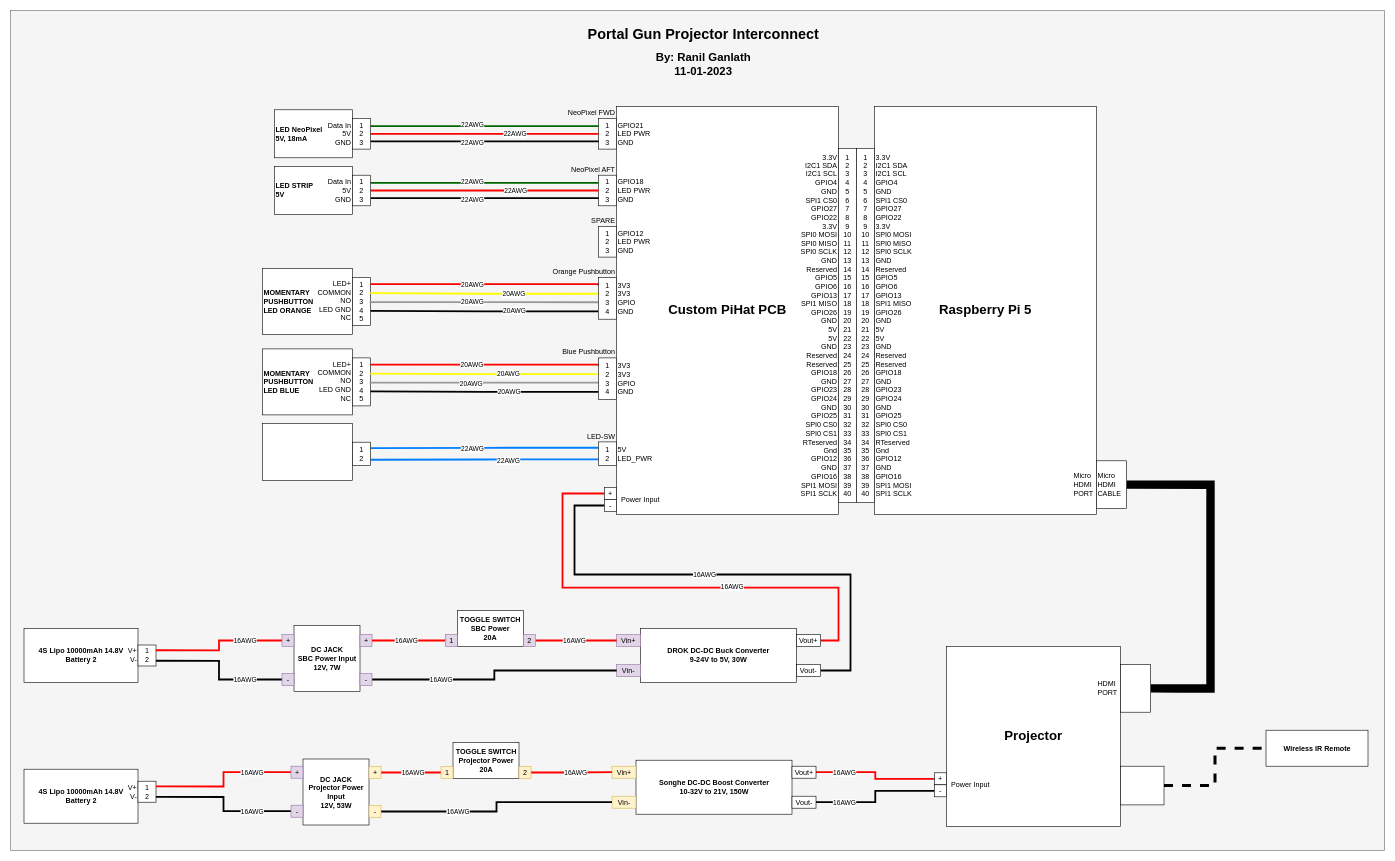
The diagram is 1395 pixels wide and 861 high, and some of its shapes have lost their labels. Here are the shapes that lost their labels. From the top down, the centre of each, then its label:
At (x=307, y=452): "TOGGLE SWITCH LED Power 5A".
At (x=1135, y=688): "HDMI CABLE".
At (x=1142, y=785): "IR Receiver".
